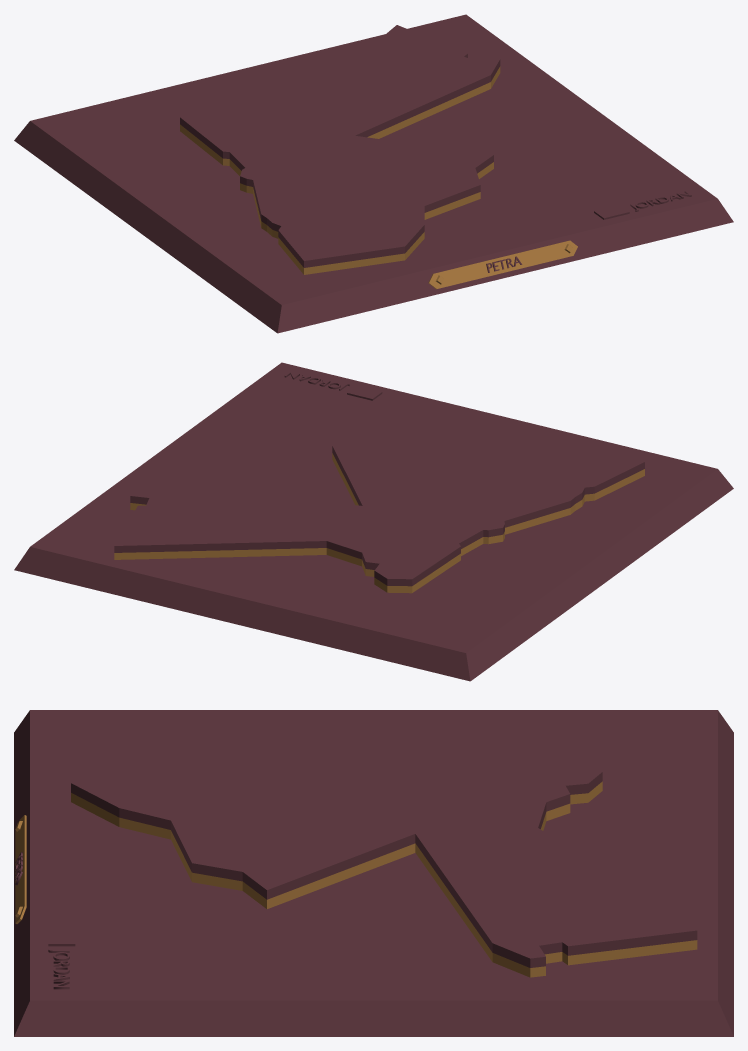
Rendered from SM_Island_Petra_Landmark.fbx.
3 views of the same model, one above another, from view 1: azimuth 30°, elevation 25°; view 2: azimuth 150°, elevation 25°; view 3: azimuth 270°, elevation 25° (orthographic). The views are drawn at different scales.
Visible parts, largest first — view 1: Island_Petra_Landmark; view 2: Island_Petra_Landmark; view 3: Island_Petra_Landmark.
Boxes of the visible parts, x1,y1,x2,y2 form: Island_Petra_Landmark: (14,14,733,333); Island_Petra_Landmark: (14,362,733,681); Island_Petra_Landmark: (14,710,733,1036).
Bounding box in the file's own units: 68.5 × 5.09 × 68.5.
